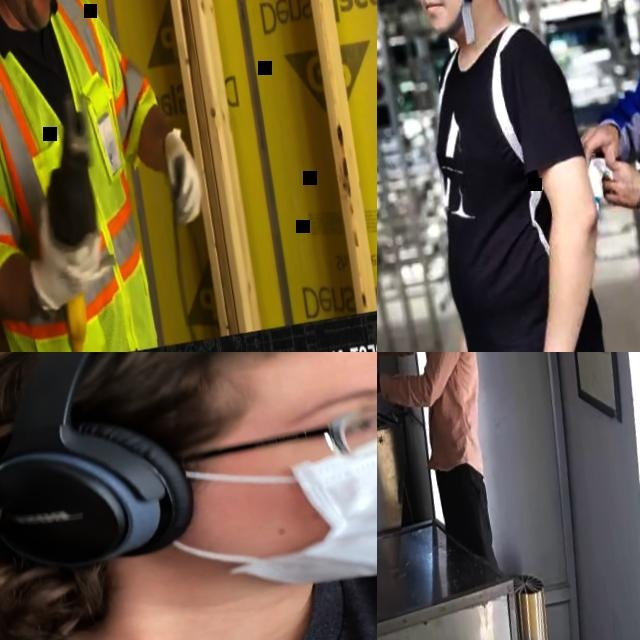Mask: (160, 410, 377, 613)
NO-Hardhat: (0, 352, 377, 478)
NO-Mask: (419, 0, 461, 35), (8, 0, 53, 32)
NO-Safety Vest: (414, 24, 596, 352), (0, 547, 377, 640), (402, 352, 495, 478)
Person: (0, 352, 377, 640), (384, 0, 637, 352), (0, 0, 226, 352), (377, 352, 553, 640), (549, 0, 640, 352)
Safety Vest: (0, 0, 194, 352)
